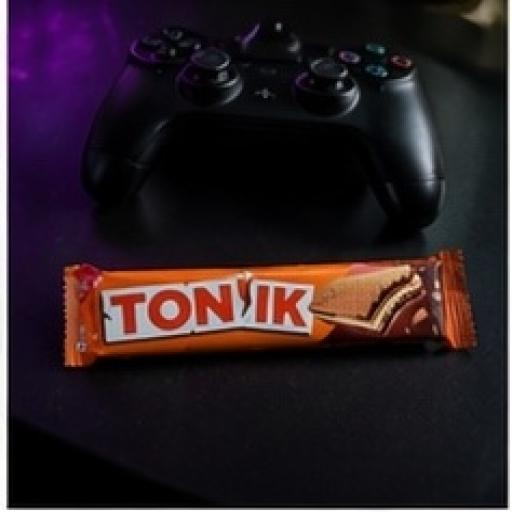tonik: (36, 213, 495, 429)
